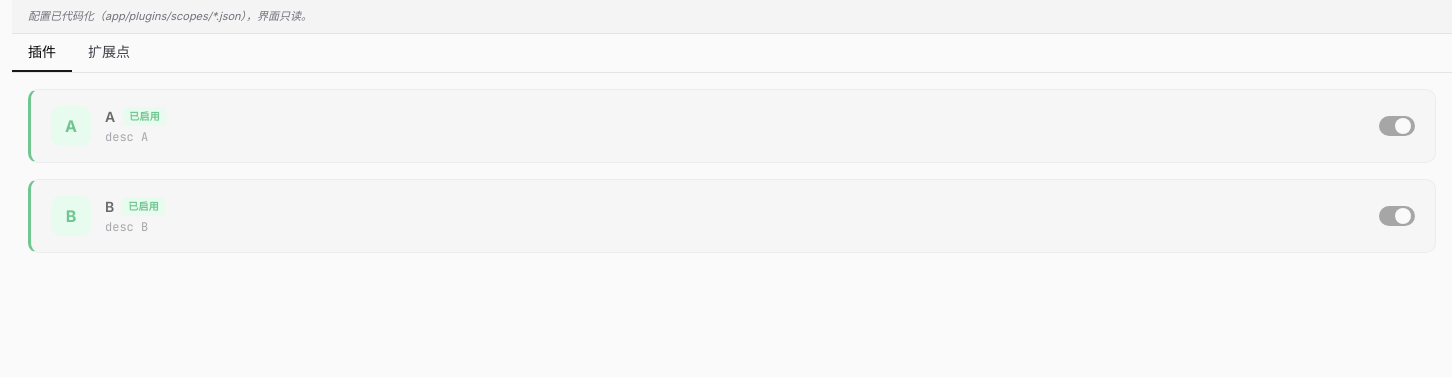
Test: PagePluginConfig（2 tab + GET inventory；v0.0.67 只读化） › 点扩展点 tab 切换 → 渲染 ext-point-area
The image size is (1452, 377).
Expected: the 1st text "A" is shown, left=51, top=106, right=91, bottom=146
Click the tab "扩展点" at [109, 52], box left=72, top=34, right=146, bottom=72
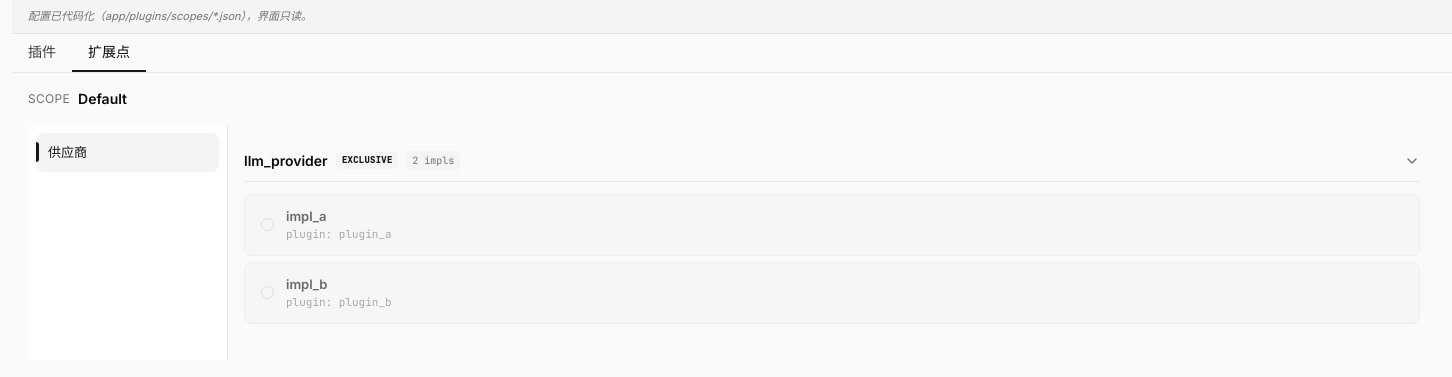
Now the text "llm_provider" is shown, box left=244, top=150, right=328, bottom=170
